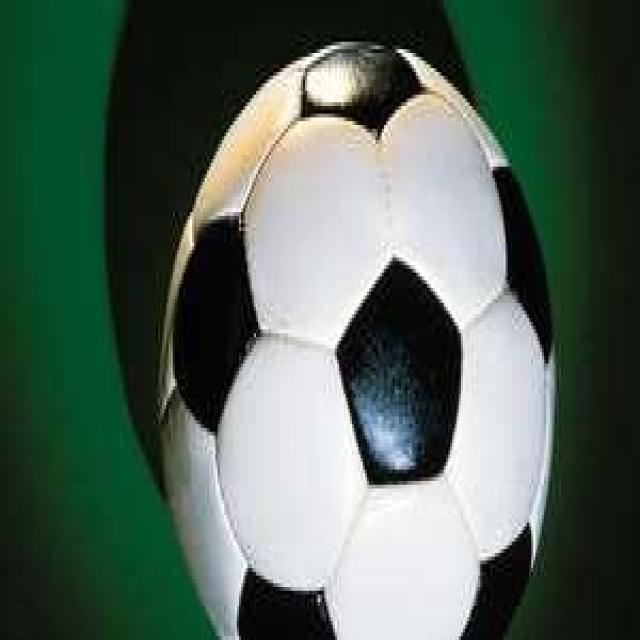Soccer Ball: (160, 38, 557, 640)
